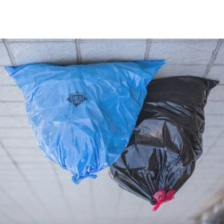plastic_bag: (0, 57, 172, 187), (105, 73, 222, 213)
